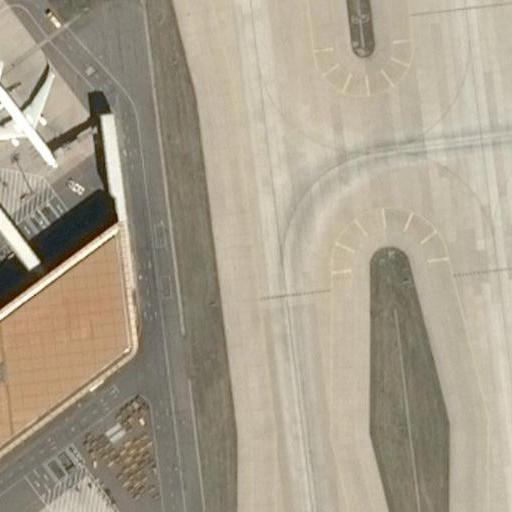Aircraft: (0, 47, 64, 173)
